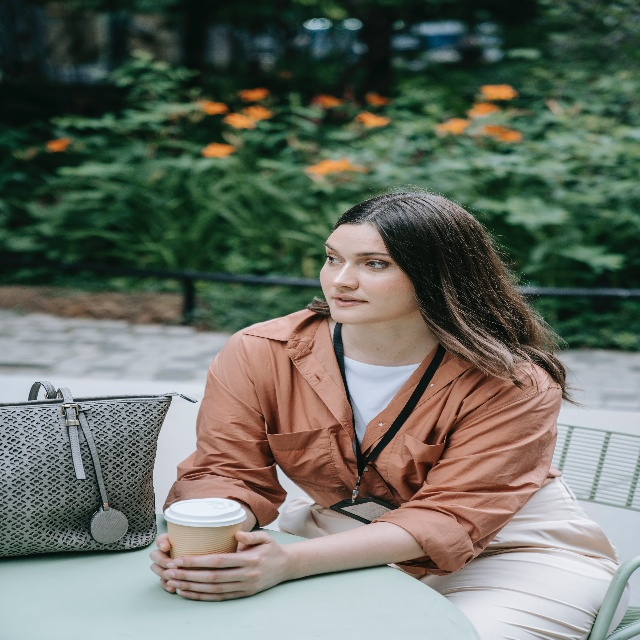Sin_guantes: (165, 527, 286, 601), (149, 530, 176, 595)
